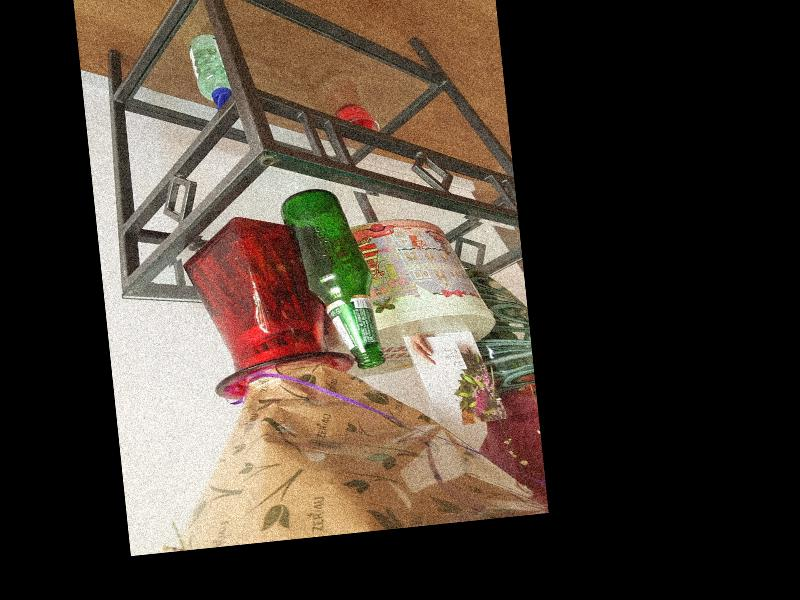Beer: (279, 183, 383, 376)
